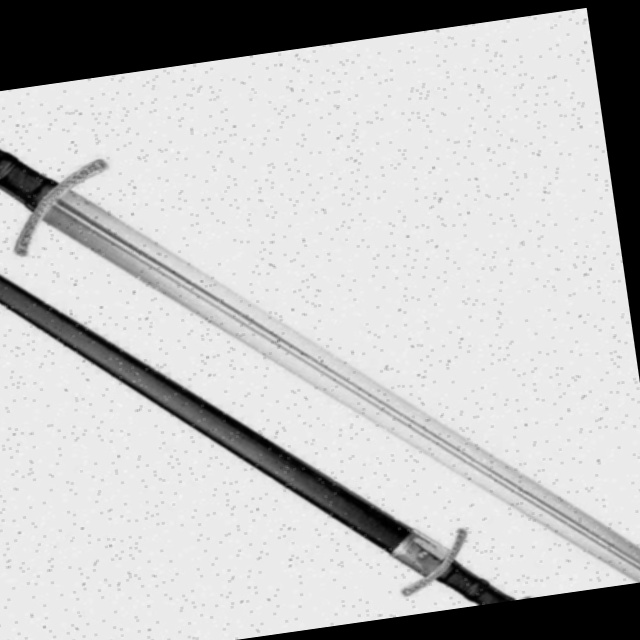Sharp-Object: (0, 13, 640, 640)
